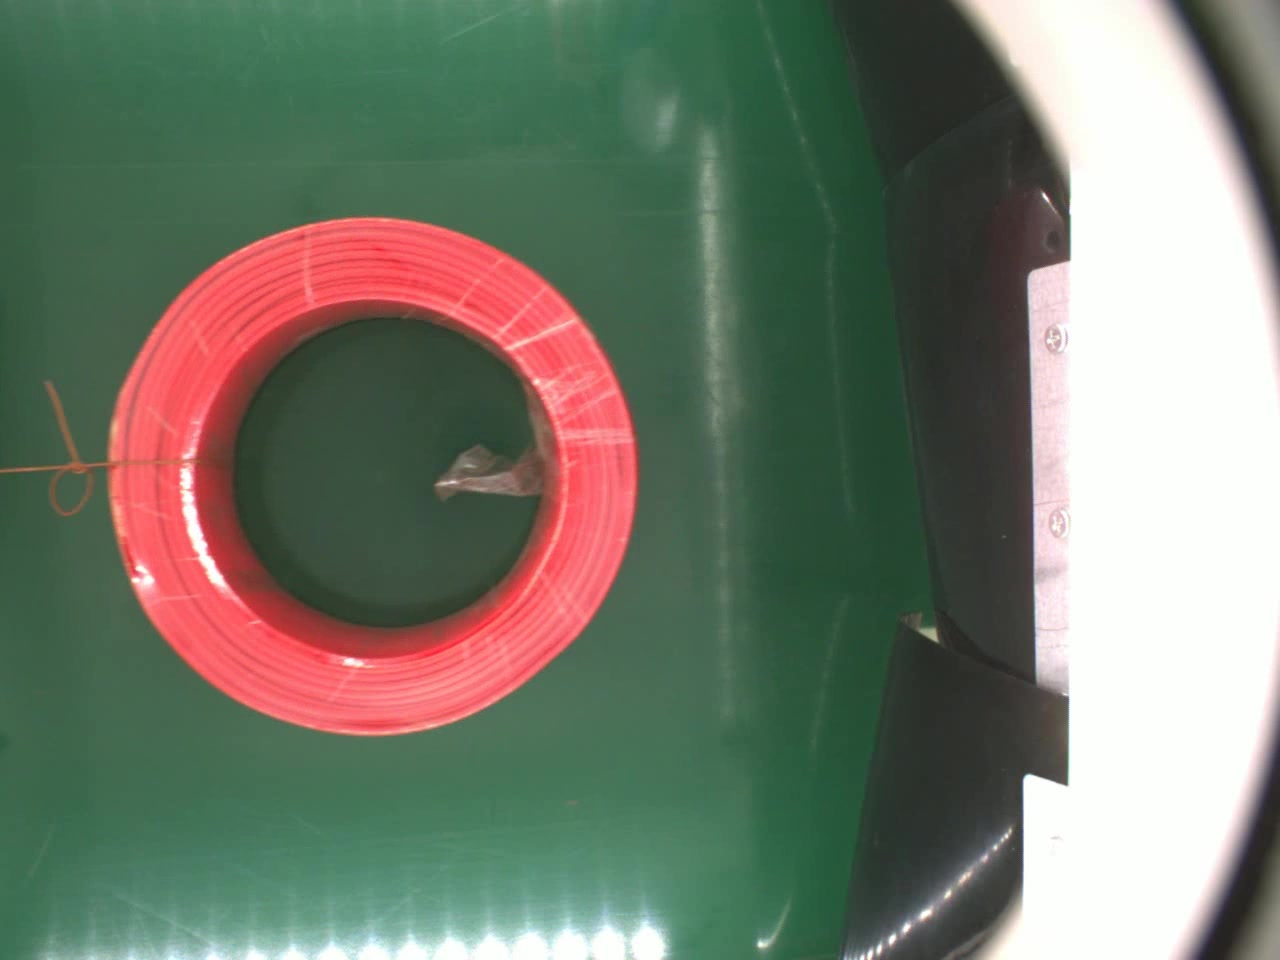red: (114, 209, 641, 740)
